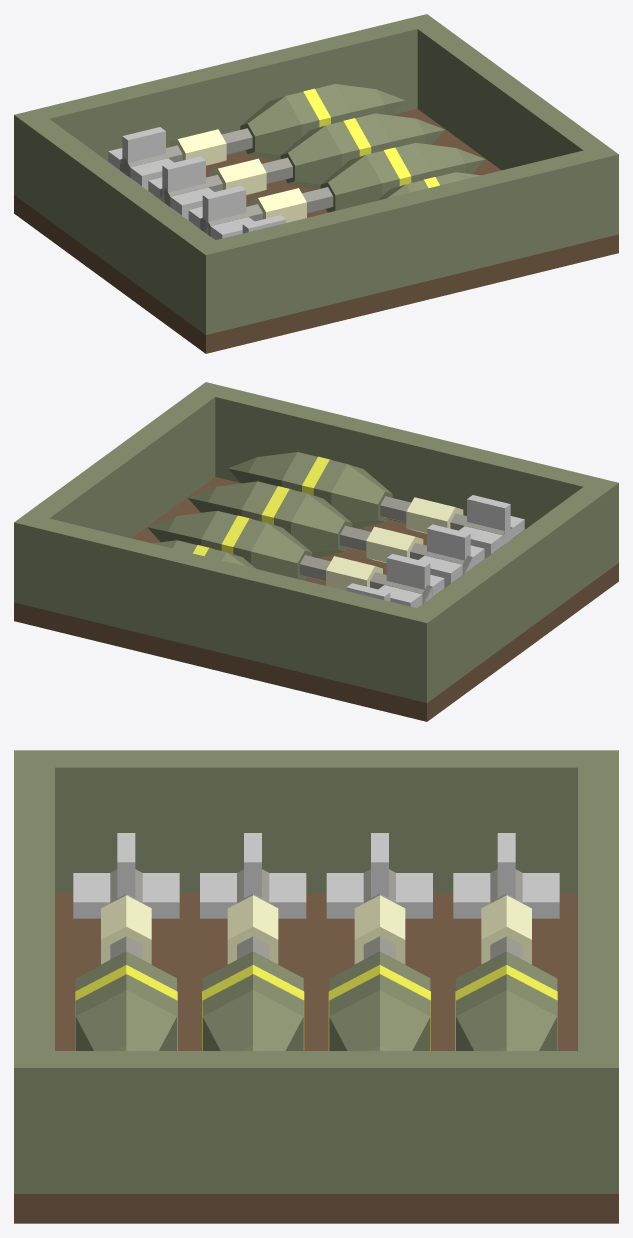
Rendered from ce_ammo_mortar_he_c.obj.
The picture shows the model from 3 angles, top to bottom: view 1: azimuth 30°, elevation 25°; view 2: azimuth 150°, elevation 25°; view 3: azimuth 270°, elevation 25°; orthographic projection. The views are drawn at different scales.
Parts seen in each view (by area): view 1: ce_ammo_mortar_he_c_3, ce_ammo_mortar_he_c_1, ce_ammo_mortar_he_c_4, ce_ammo_mortar_he_c_2, ce_ammo_mortar_he_c_0, ce_ammo_mortar_he_c_37, ce_ammo_mortar_he_c_27, ce_ammo_mortar_he_c_17, ce_ammo_mortar_he_c_36, ce_ammo_mortar_he_c_24, ce_ammo_mortar_he_c_26, ce_ammo_mortar_he_c_34 (+20 smaller); view 2: ce_ammo_mortar_he_c_4, ce_ammo_mortar_he_c_1, ce_ammo_mortar_he_c_3, ce_ammo_mortar_he_c_2, ce_ammo_mortar_he_c_0, ce_ammo_mortar_he_c_7, ce_ammo_mortar_he_c_17, ce_ammo_mortar_he_c_27, ce_ammo_mortar_he_c_14, ce_ammo_mortar_he_c_6, ce_ammo_mortar_he_c_16, ce_ammo_mortar_he_c_26 (+20 smaller); view 3: ce_ammo_mortar_he_c_2, ce_ammo_mortar_he_c_1, ce_ammo_mortar_he_c_0, ce_ammo_mortar_he_c_3, ce_ammo_mortar_he_c_4, ce_ammo_mortar_he_c_21, ce_ammo_mortar_he_c_31, ce_ammo_mortar_he_c_11, ce_ammo_mortar_he_c_41, ce_ammo_mortar_he_c_13, ce_ammo_mortar_he_c_43, ce_ammo_mortar_he_c_23 (+25 smaller).
Part boxes in pixels (x1=…): ce_ammo_mortar_he_c_3: x1=216, y1=150, x2=596, y2=329; ce_ammo_mortar_he_c_1: x1=14, y1=109, x2=228, y2=334; ce_ammo_mortar_he_c_4: x1=37, y1=19, x2=417, y2=169; ce_ammo_mortar_he_c_2: x1=405, y1=14, x2=618, y2=239; ce_ammo_mortar_he_c_0: x1=14, y1=109, x2=618, y2=353; ce_ammo_mortar_he_c_37: x1=240, y1=96, x2=301, y2=160; ce_ammo_mortar_he_c_27: x1=280, y1=125, x2=341, y2=189; ce_ammo_mortar_he_c_17: x1=320, y1=155, x2=381, y2=212; ce_ammo_mortar_he_c_36: x1=169, y1=129, x2=226, y2=165; ce_ammo_mortar_he_c_24: x1=202, y1=186, x2=246, y2=240; ce_ammo_mortar_he_c_26: x1=209, y1=158, x2=266, y2=194; ce_ammo_mortar_he_c_34: x1=162, y1=156, x2=205, y2=224; ce_ammo_mortar_he_c_4: x1=36, y1=518, x2=416, y2=697; ce_ammo_mortar_he_c_1: x1=404, y1=477, x2=618, y2=702; ce_ammo_mortar_he_c_3: x1=215, y1=387, x2=595, y2=537; ce_ammo_mortar_he_c_2: x1=14, y1=382, x2=227, y2=607; ce_ammo_mortar_he_c_0: x1=14, y1=477, x2=618, y2=721; ce_ammo_mortar_he_c_7: x1=331, y1=464, x2=392, y2=528; ce_ammo_mortar_he_c_17: x1=291, y1=493, x2=352, y2=557; ce_ammo_mortar_he_c_27: x1=251, y1=523, x2=312, y2=580; ce_ammo_mortar_he_c_14: x1=467, y1=495, x2=510, y2=562; ce_ammo_mortar_he_c_6: x1=406, y1=497, x2=463, y2=533; ce_ammo_mortar_he_c_16: x1=366, y1=526, x2=423, y2=562; ce_ammo_mortar_he_c_26: x1=326, y1=556, x2=382, y2=590; ce_ammo_mortar_he_c_2: x1=14, y1=1051, x2=618, y2=1193; ce_ammo_mortar_he_c_1: x1=14, y1=750, x2=618, y2=893; ce_ammo_mortar_he_c_0: x1=14, y1=893, x2=618, y2=1223; ce_ammo_mortar_he_c_3: x1=14, y1=767, x2=54, y2=1050; ce_ammo_mortar_he_c_4: x1=578, y1=767, x2=618, y2=1050; ce_ammo_mortar_he_c_21: x1=202, y1=990, x2=303, y2=1050; ce_ammo_mortar_he_c_31: x1=329, y1=990, x2=430, y2=1050; ce_ammo_mortar_he_c_11: x1=75, y1=990, x2=176, y2=1050; ce_ammo_mortar_he_c_41: x1=456, y1=990, x2=557, y2=1050; ce_ammo_mortar_he_c_13: x1=73, y1=873, x2=179, y2=918; ce_ammo_mortar_he_c_43: x1=453, y1=873, x2=559, y2=918; ce_ammo_mortar_he_c_23: x1=200, y1=873, x2=306, y2=918.
Size of the model in its own units: 0.92 by 0.21 by 0.74.
